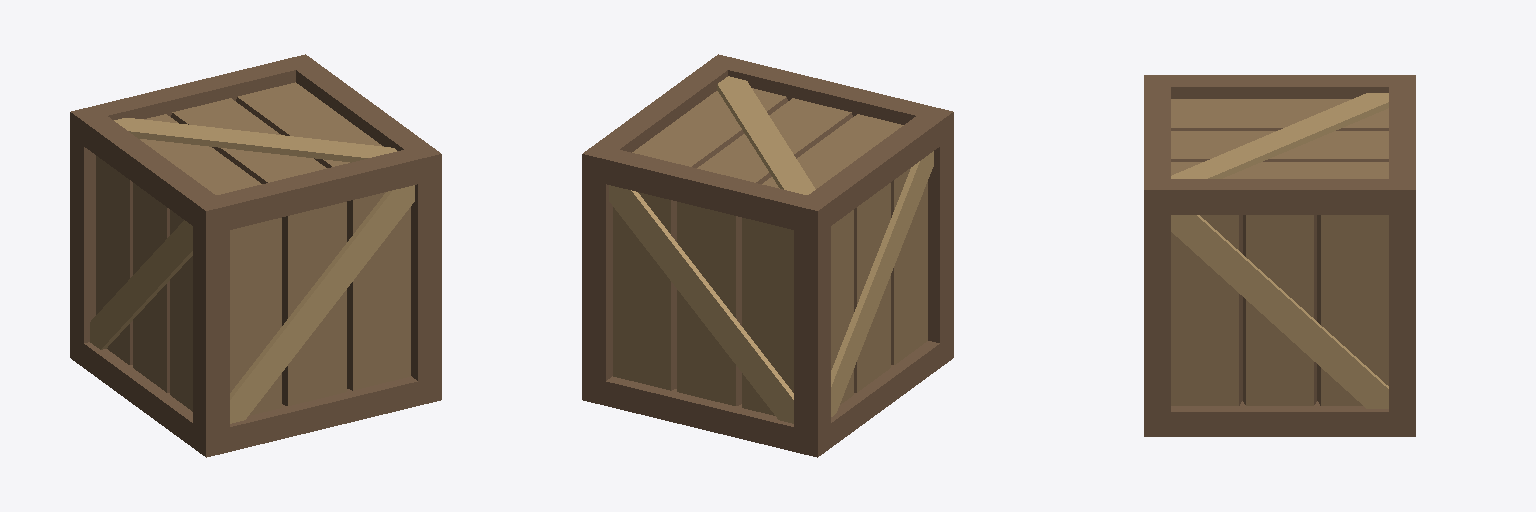
File: BoxLid.obj
The picture shows the model from 3 angles: view 1: azimuth 30°, elevation 25°; view 2: azimuth 150°, elevation 25°; view 3: azimuth 270°, elevation 25°; orthographic projection.
Parts seen in each view (by area): view 1: mergedBlocks; view 2: mergedBlocks; view 3: mergedBlocks.
Boxes of the visible parts, x1,y1,x2,y2 form: mergedBlocks: [70, 54, 441, 457]; mergedBlocks: [582, 54, 953, 457]; mergedBlocks: [1144, 75, 1415, 436].
Bounding box in the file's own units: 1 × 1 × 1.